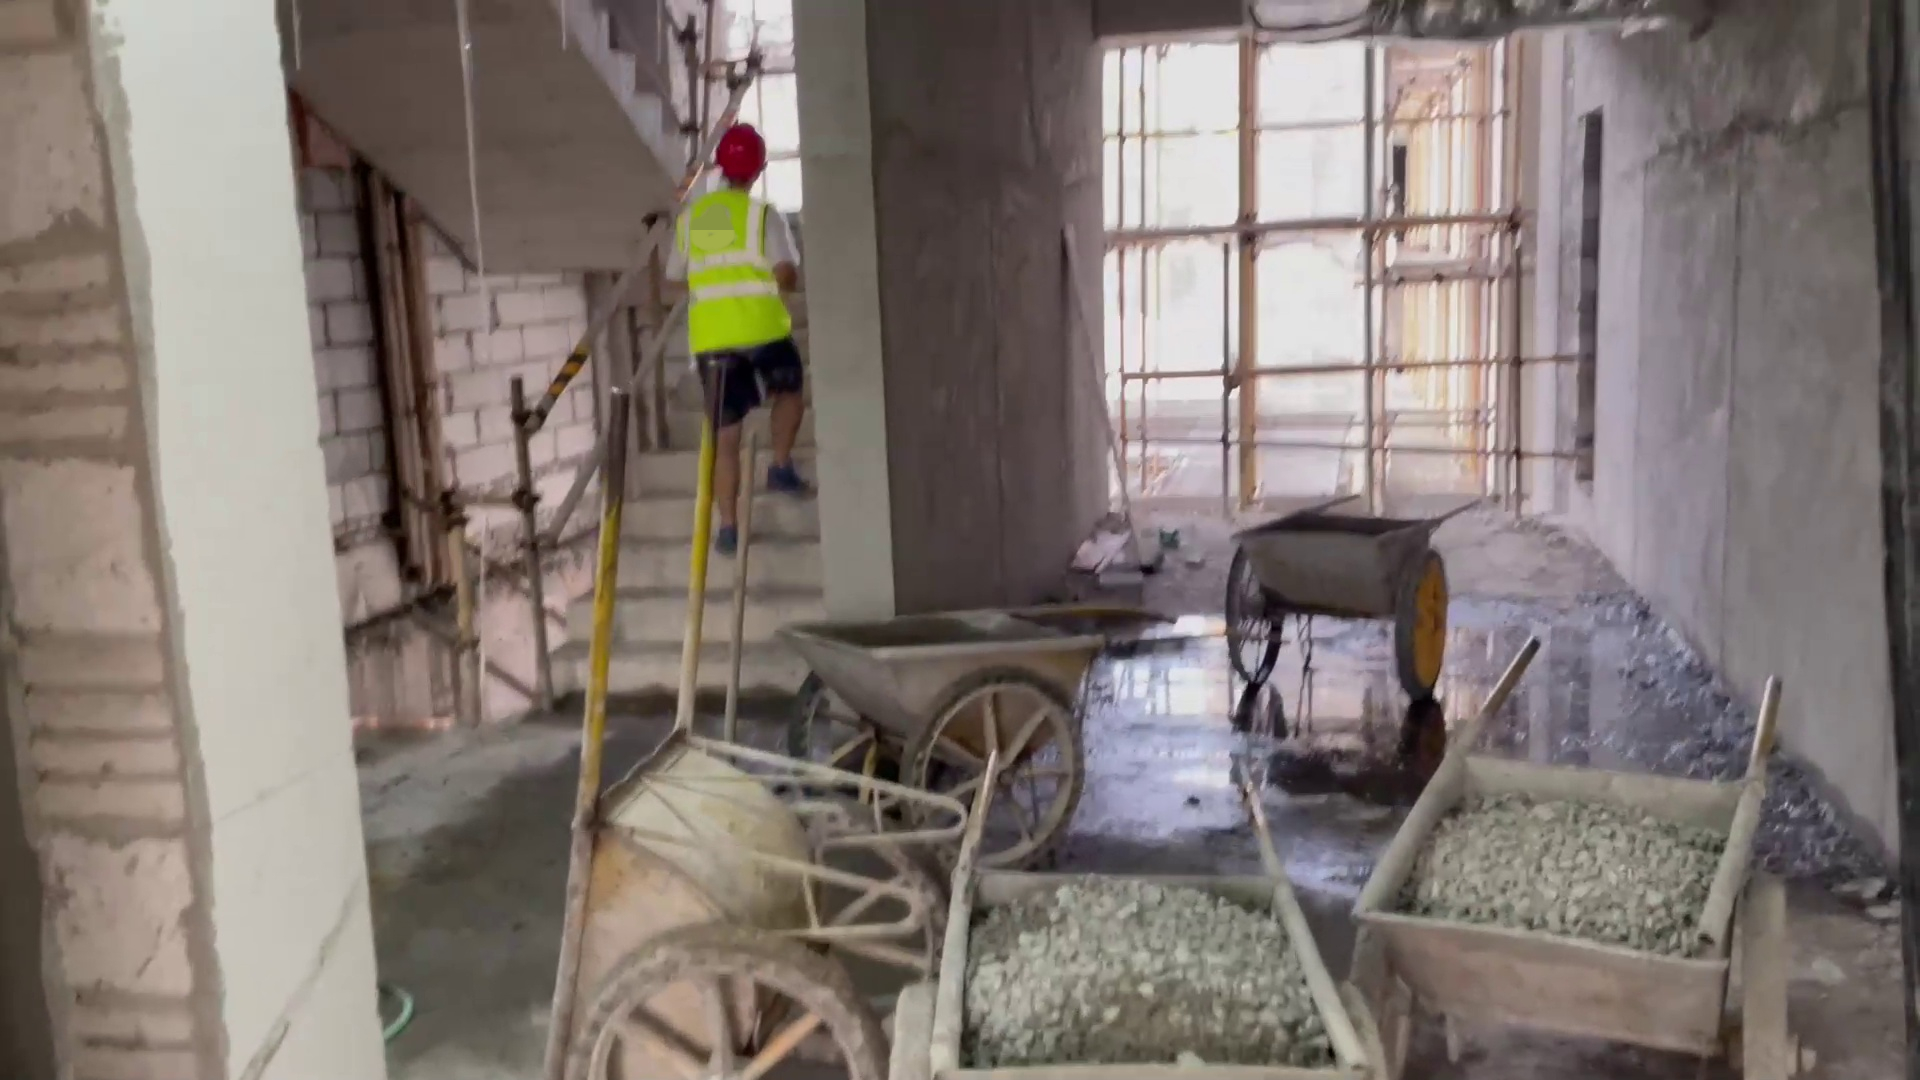handcart: (547, 369, 938, 1080), (1372, 637, 1824, 1062), (926, 734, 1369, 1080), (772, 586, 1189, 868), (1205, 486, 1505, 706)
helmet: (711, 116, 768, 184)
person: (676, 115, 826, 547)
vest: (679, 190, 798, 346)
